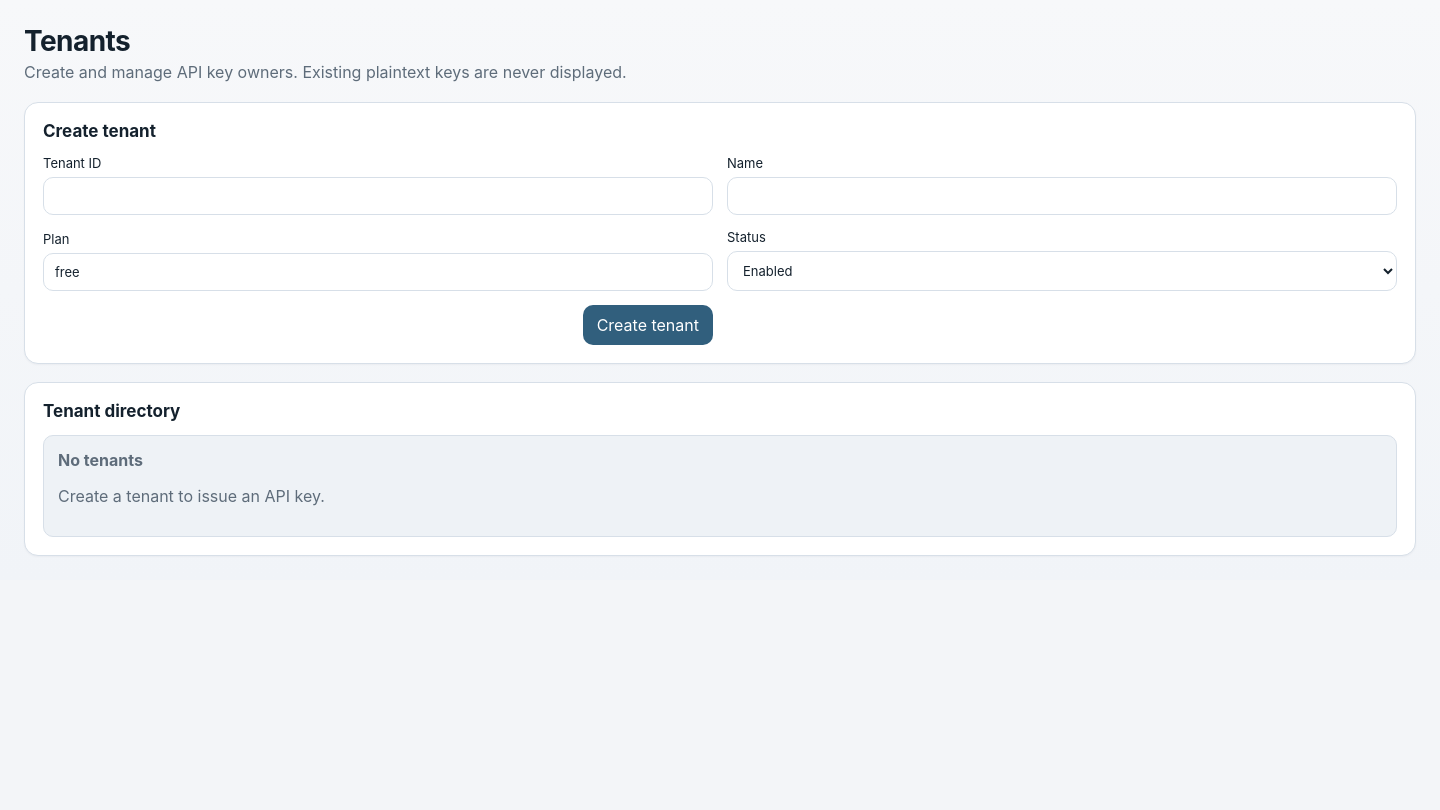
Test case: TenantsPage › shows a newly generated API key once after tenant creation
In the field labelled "Tenant ID": [378, 196] box [43, 177, 713, 215], type "tenant-a"
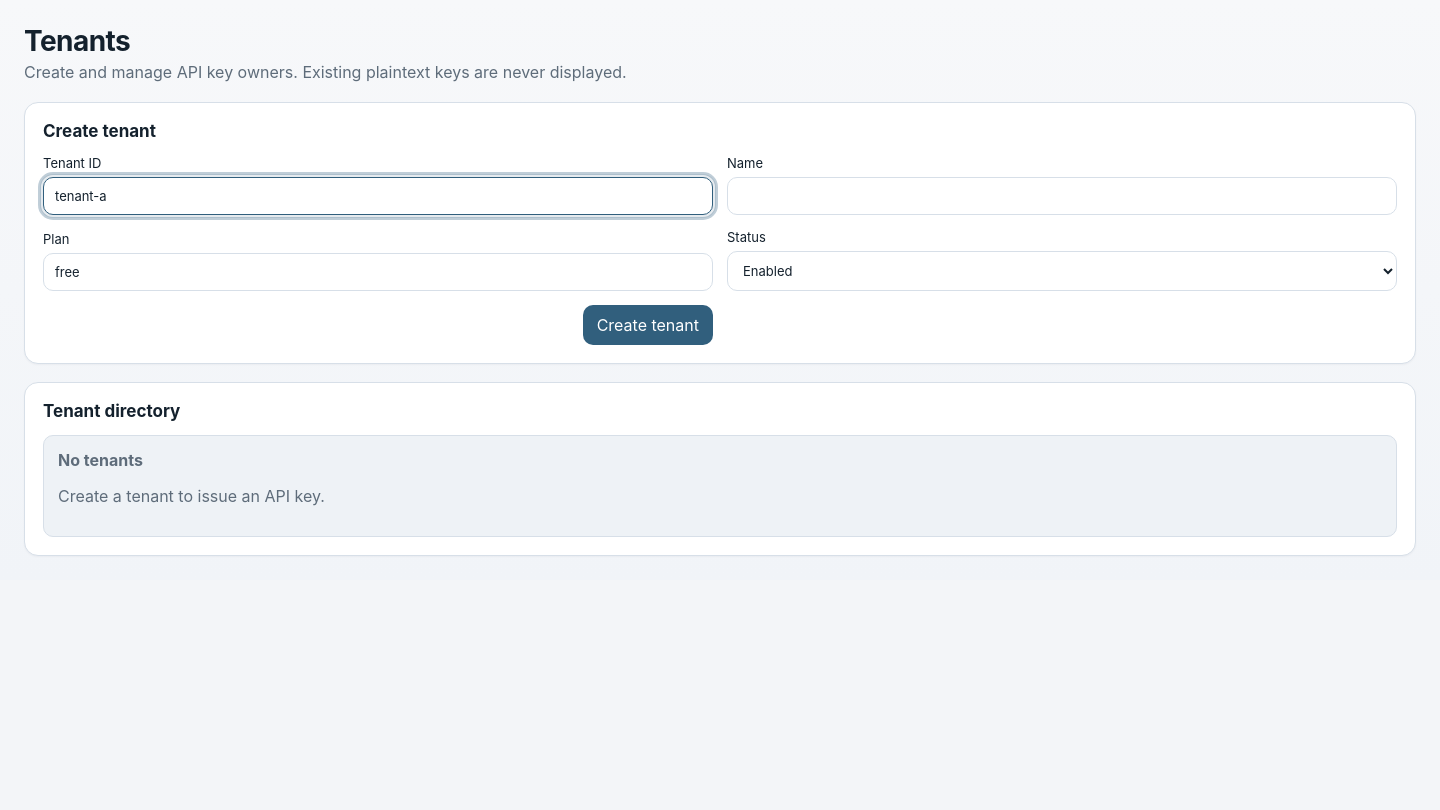
In the field labelled "Name": [1062, 196] box [727, 177, 1397, 215], type "Tenant A"
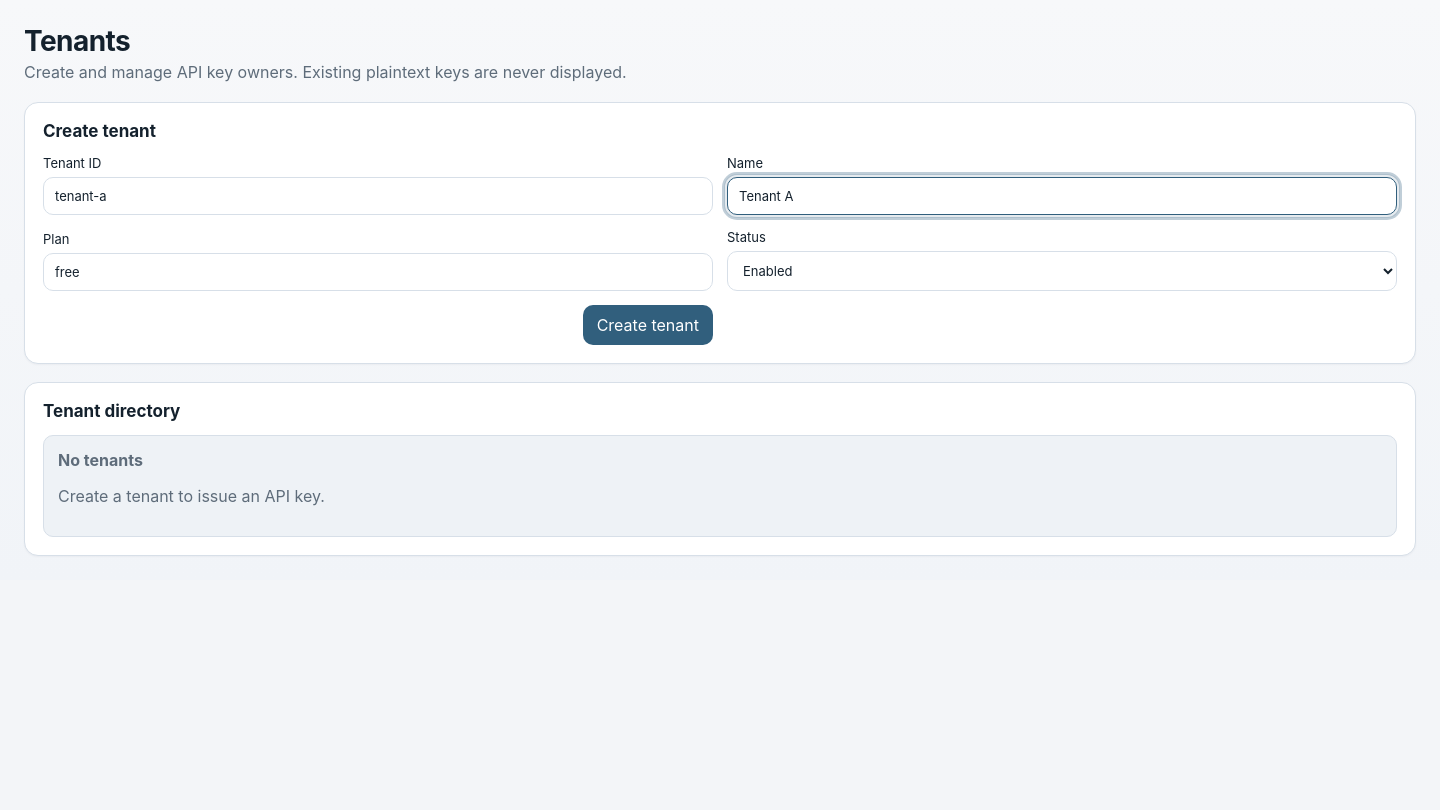
Click the button "Create tenant": [648, 325] box [583, 305, 713, 345]
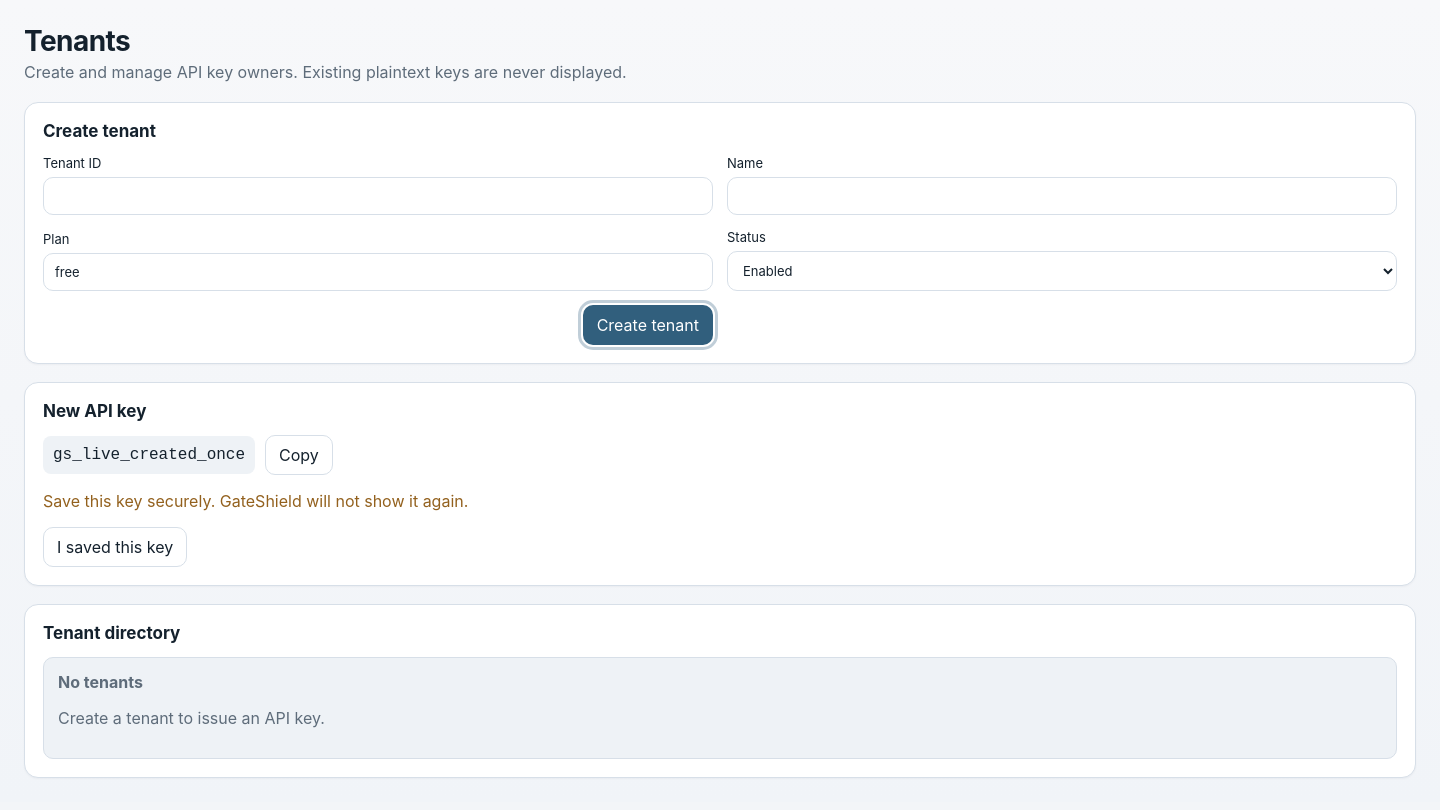
Expected: the text "gs_live_created_once" is shown, [43, 436, 255, 474]
Expected: the text "Save this key securely. GateShield will not show it again." is shown, [43, 491, 468, 511]
